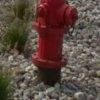Hydrant: (20, 1, 81, 84)
